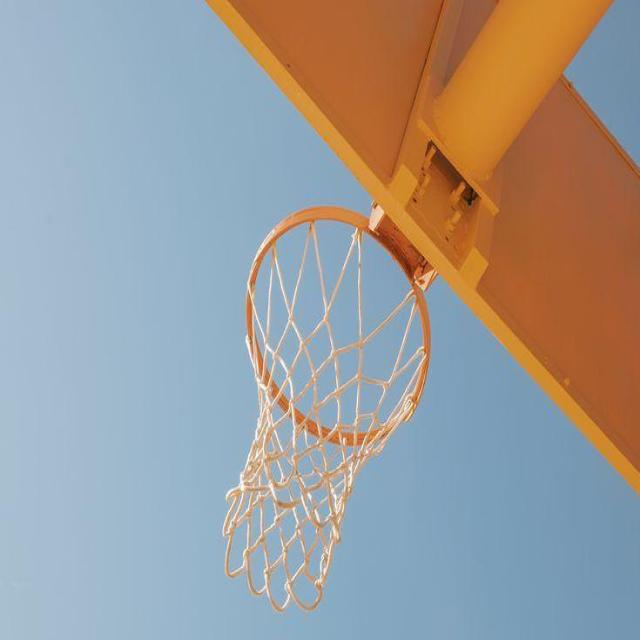hoop: (212, 220, 464, 588)
